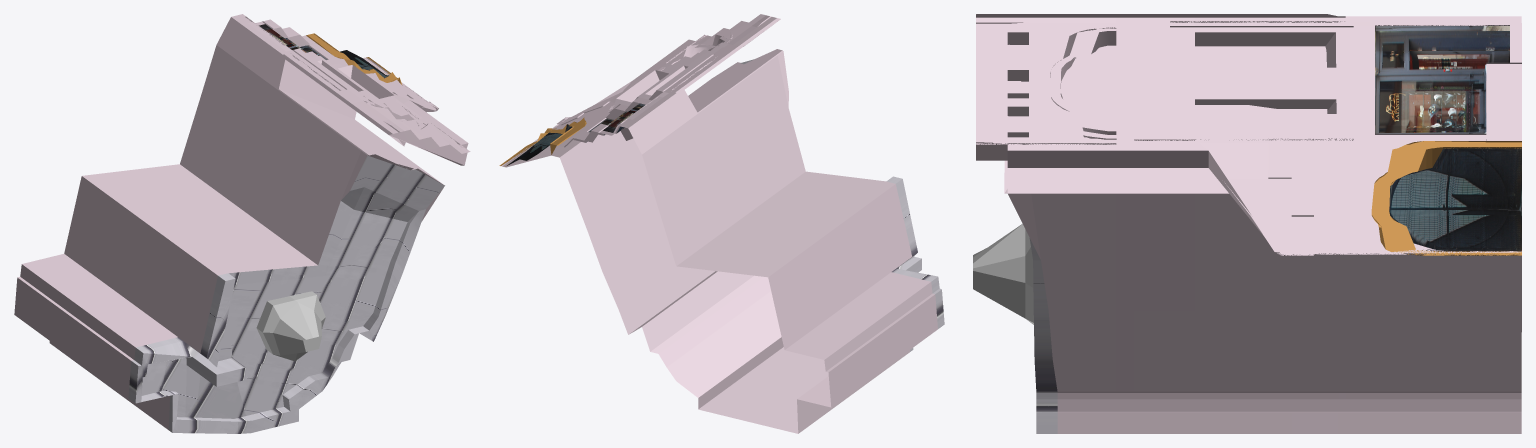
The model's file is Vaike-Karja_6a-origo.obj.
3 views of the same model, side by side, from view 1: azimuth 30°, elevation 25°; view 2: azimuth 150°, elevation 25°; view 3: azimuth 270°, elevation 25° (orthographic). The views are drawn at different scales.
Parts seen in each view (by area): view 1: polySurface5; view 2: polySurface5; view 3: polySurface5.
Boxes of the visible parts, left/top/right/bottom form: polySurface5: left=14, top=14, right=470, bottom=433; polySurface5: left=499, top=14, right=944, bottom=433; polySurface5: left=973, top=14, right=1521, bottom=433.
Bounding box in the file's own units: 15.12 × 11.5 × 11.93.
